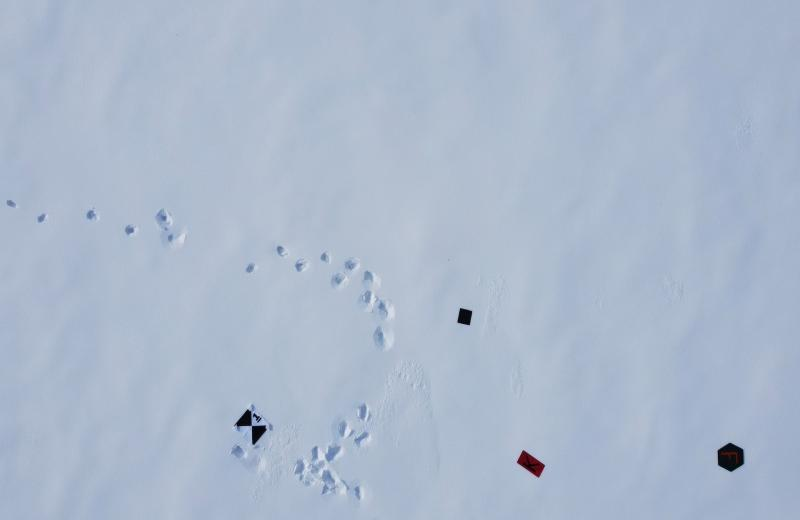Hexagon: (714, 438, 749, 478)
Rectangle: (512, 446, 549, 484)
Square: (452, 303, 474, 330)
